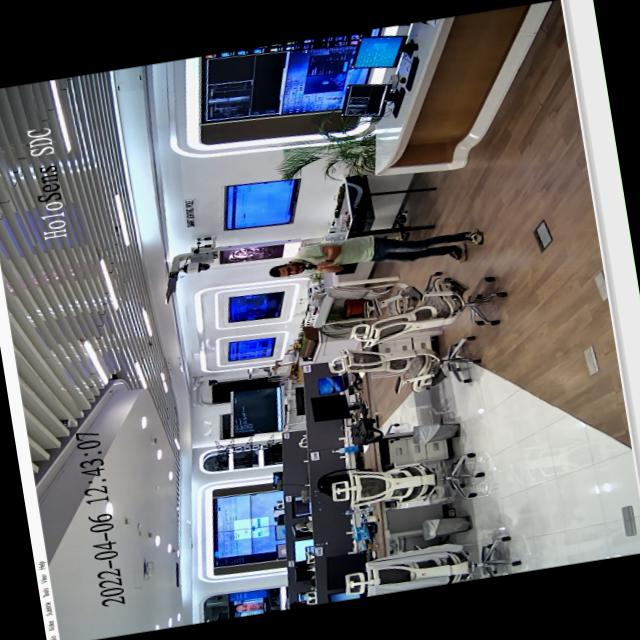long weapon: (297, 257, 334, 274)
